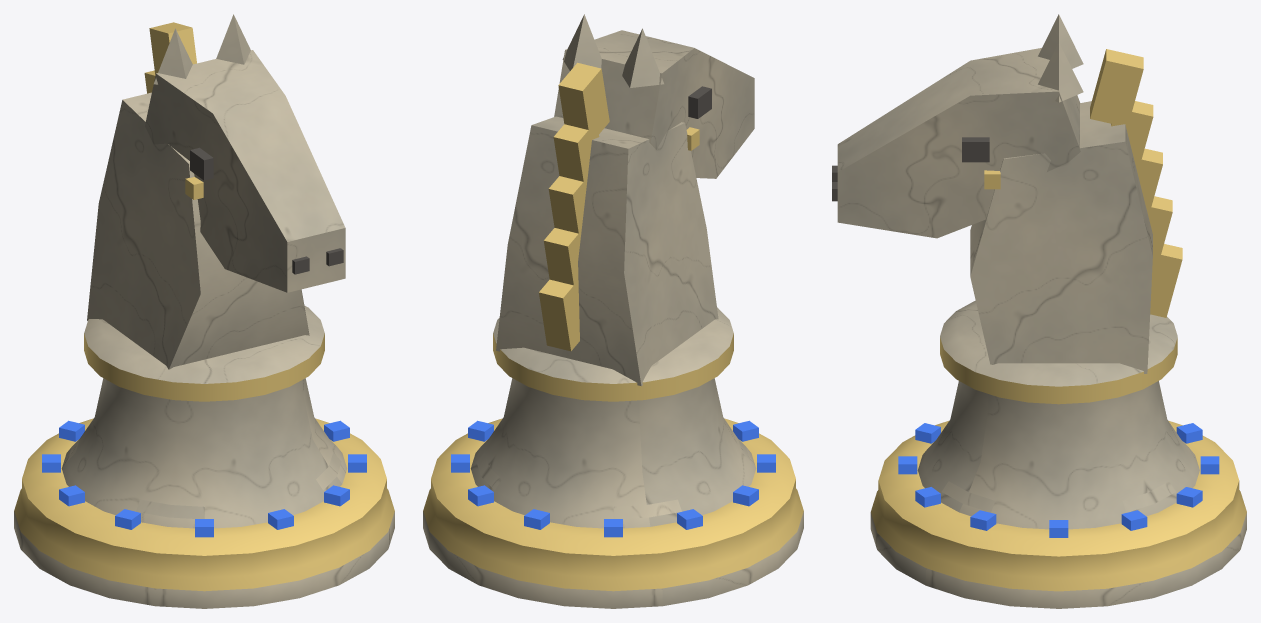
File: knight_light.glb
The picture shows the model from 3 angles, left to right: view 1: azimuth 30°, elevation 25°; view 2: azimuth 150°, elevation 25°; view 3: azimuth 270°, elevation 25°; orthographic projection.
Parts seen in each view (by area): view 1: Piece_Knight_Light_Mesh; view 2: Piece_Knight_Light_Mesh; view 3: Piece_Knight_Light_Mesh.
Part boxes in pixels (<box>): Piece_Knight_Light_Mesh: <box>14,14,394,608</box>; Piece_Knight_Light_Mesh: <box>423,14,803,608</box>; Piece_Knight_Light_Mesh: <box>832,14,1246,608</box>.
Size of the model in its own units: 0.68 by 1 by 0.75.
Materials: 4 (1 with a texture image).
